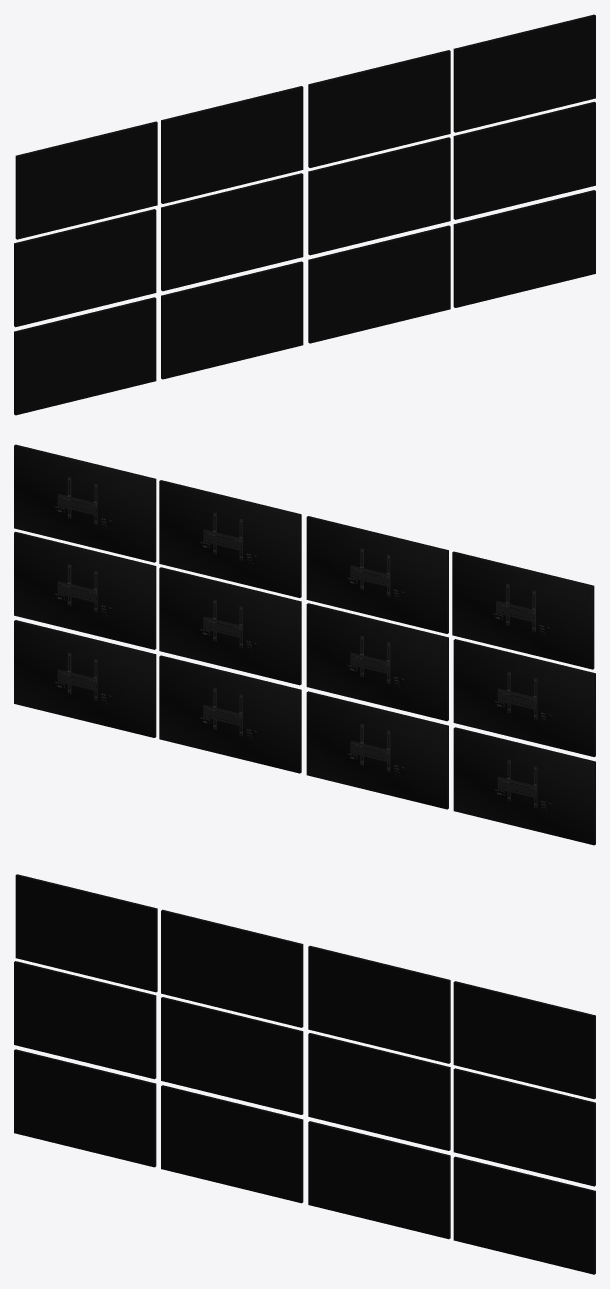
The model's file is meshset_police_monitor.fbx.
The picture shows the model from 3 angles, top to bottom: view 1: azimuth 30°, elevation 25°; view 2: azimuth 150°, elevation 25°; view 3: azimuth 330°, elevation 25°; orthographic projection.
Parts seen in each view (by area): view 1: _mesh; view 2: _mesh; view 3: _mesh.
Boxes of the visible parts, box(x1,y1,x2,y2) form: _mesh: box(14, 14, 595, 415); _mesh: box(14, 444, 595, 845); _mesh: box(14, 874, 595, 1274).
Bounding box in the file's own units: 449 × 191 × 11.81.
Materials: 1 (1 with a texture image).
